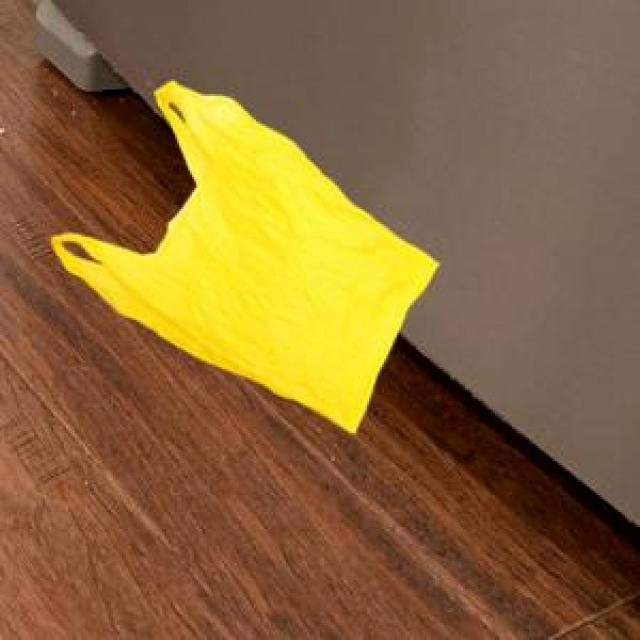Plastic_Bag: (48, 78, 434, 430)
